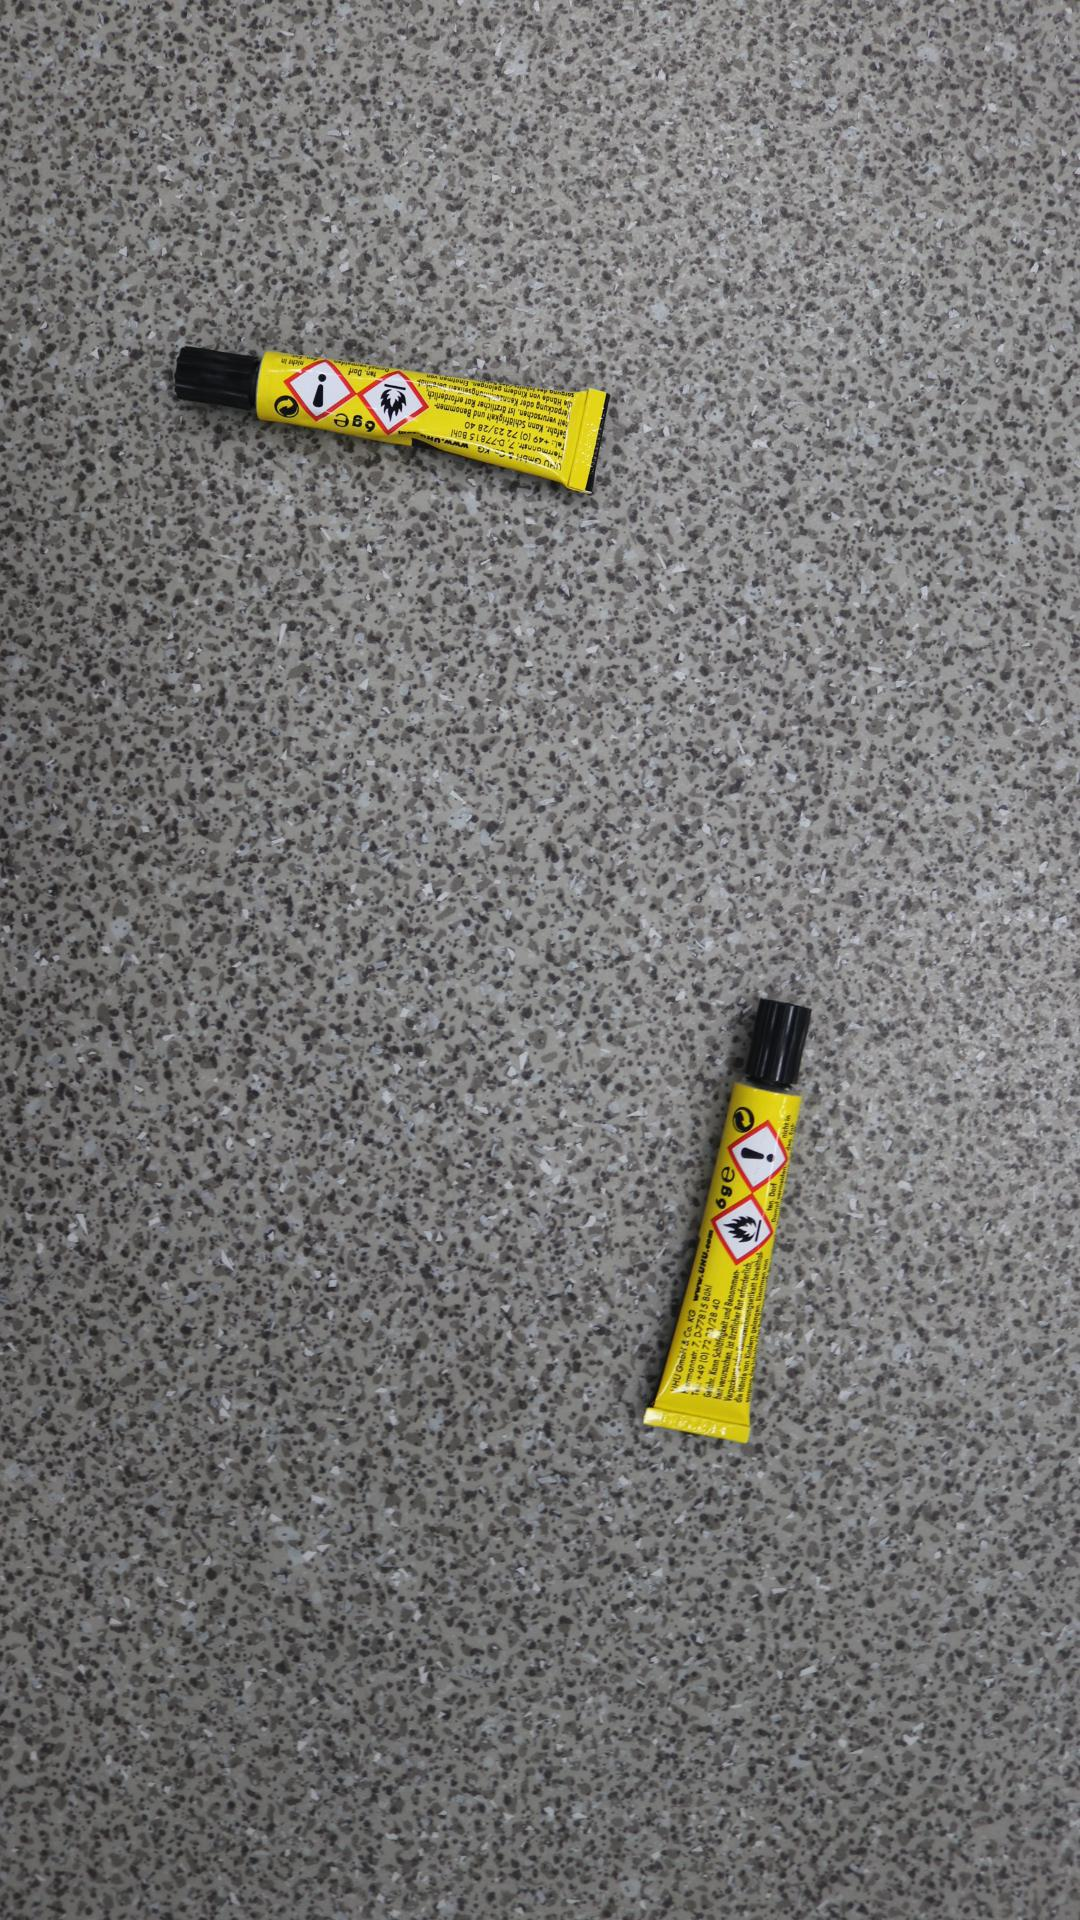Head: (214, 370, 221, 377), (775, 1043, 782, 1049)
Tail: (584, 435, 591, 444), (693, 1421, 700, 1427)
Tube: (643, 998, 813, 1442), (173, 345, 612, 494)
